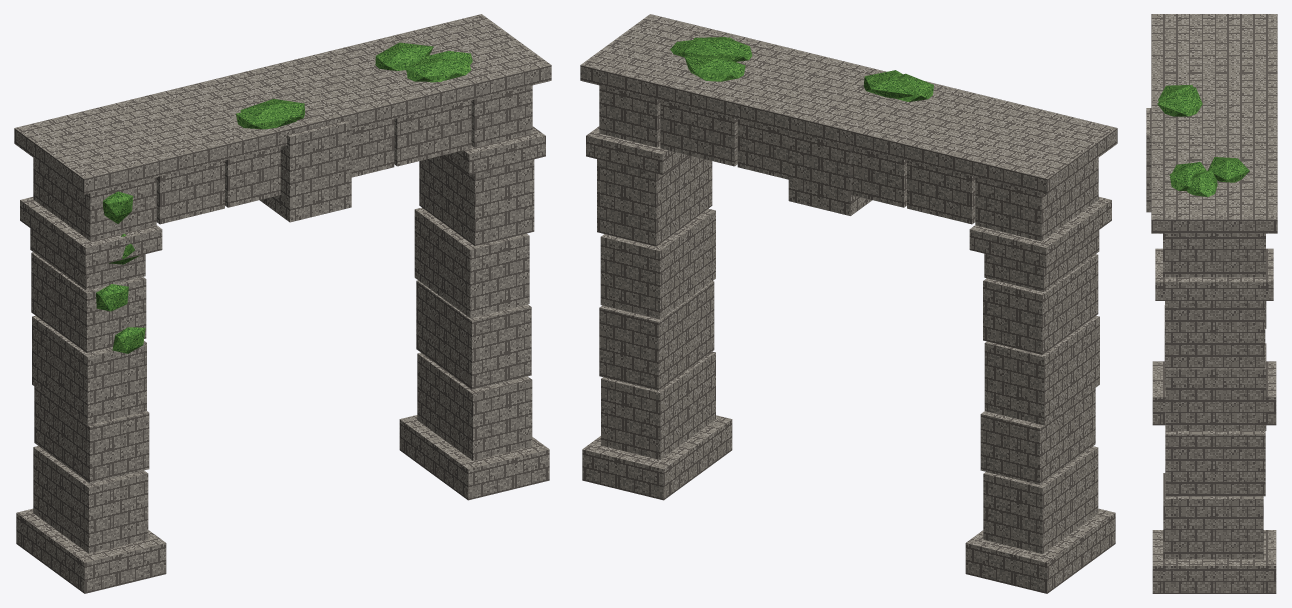
The model's file is wall_frame_stone.glb.
The picture shows the model from 3 angles, left to right: view 1: azimuth 30°, elevation 25°; view 2: azimuth 150°, elevation 25°; view 3: azimuth 270°, elevation 25°; orthographic projection. The views are drawn at different scales.
Visible parts, largest first — view 1: Body; view 2: Body; view 3: Body.
Boxes of the visible parts, bbox=[...] form: Body: bbox=[14, 14, 551, 593]; Body: bbox=[580, 14, 1117, 593]; Body: bbox=[1146, 14, 1277, 593].
Bounding box in the file's own units: 3.78 × 3.32 × 1.02.
2 materials, 2 textured.
